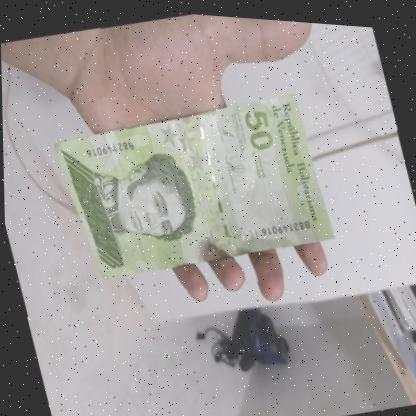fifty-front-vef: (48, 73, 338, 295)
